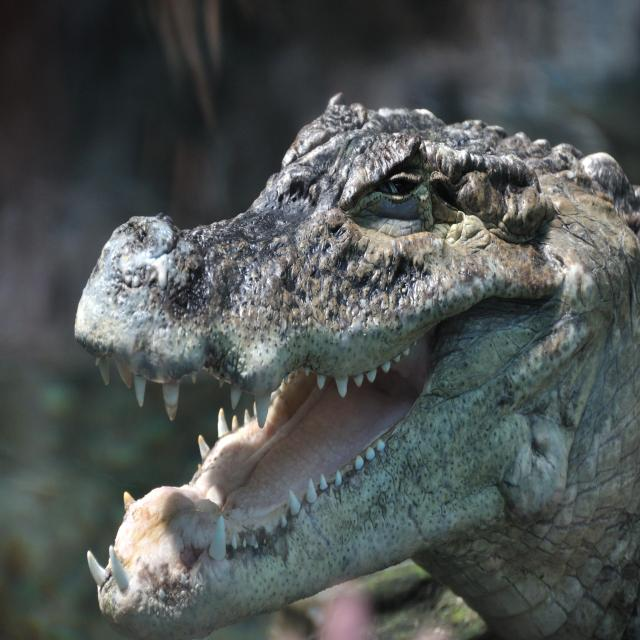crocodile: (38, 45, 640, 640)
